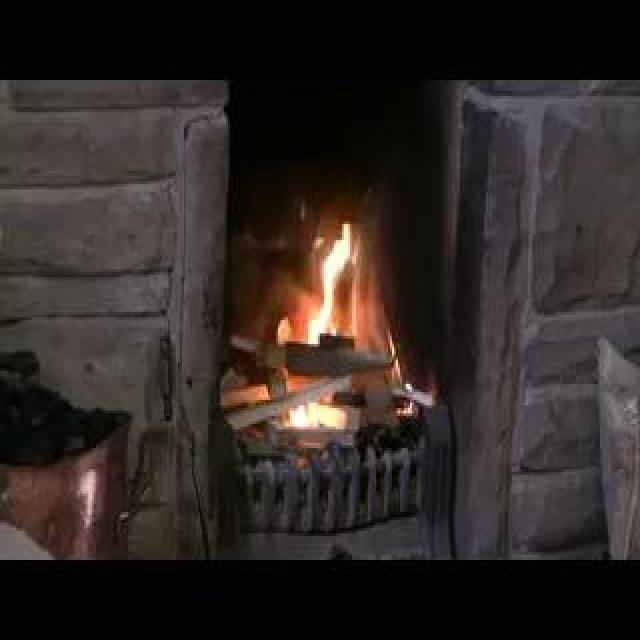Fire: (78, 160, 326, 270)
